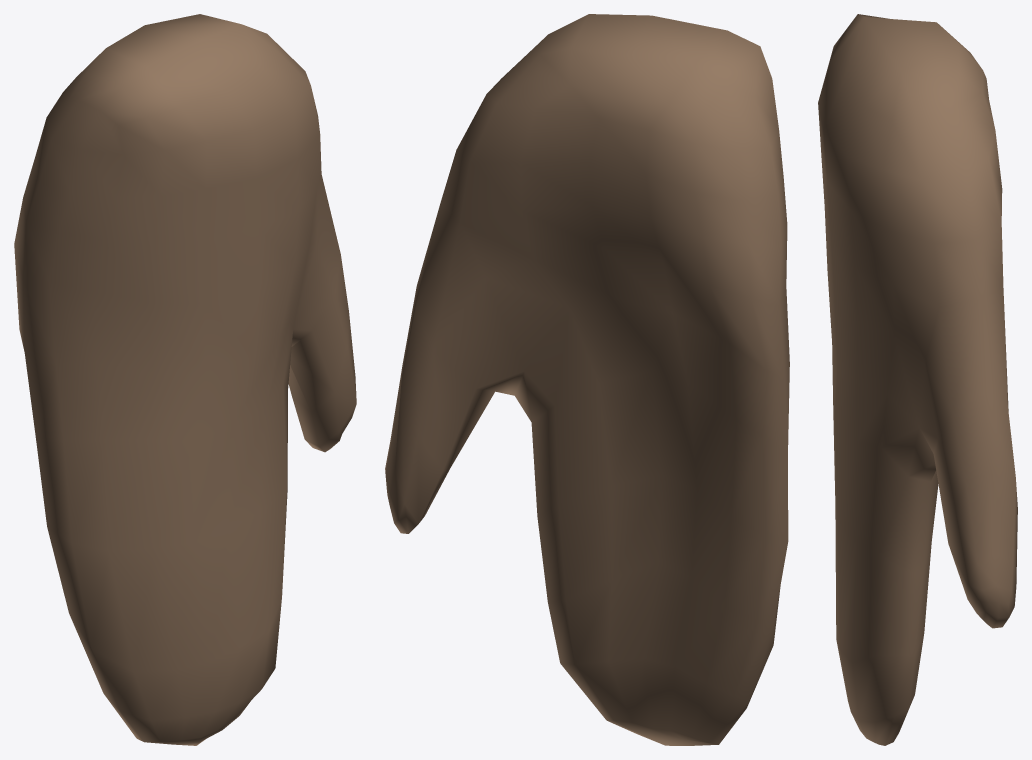
The model's file is personajePacienteMano.fbx.
3 renders of one model, left to right at view 1: azimuth 30°, elevation 25°; view 2: azimuth 150°, elevation 25°; view 3: azimuth 270°, elevation 25°, orthographic. The views are drawn at different scales.
Parts seen in each view (by area): view 1: manos; view 2: manos; view 3: manos.
Part boxes in pixels (box(x1,y1,x2,y2)): manos: box(14, 14, 356, 745); manos: box(385, 14, 789, 745); manos: box(818, 14, 1017, 745).
Size of the model in its own units: 34.18 by 64.15 by 16.58.
